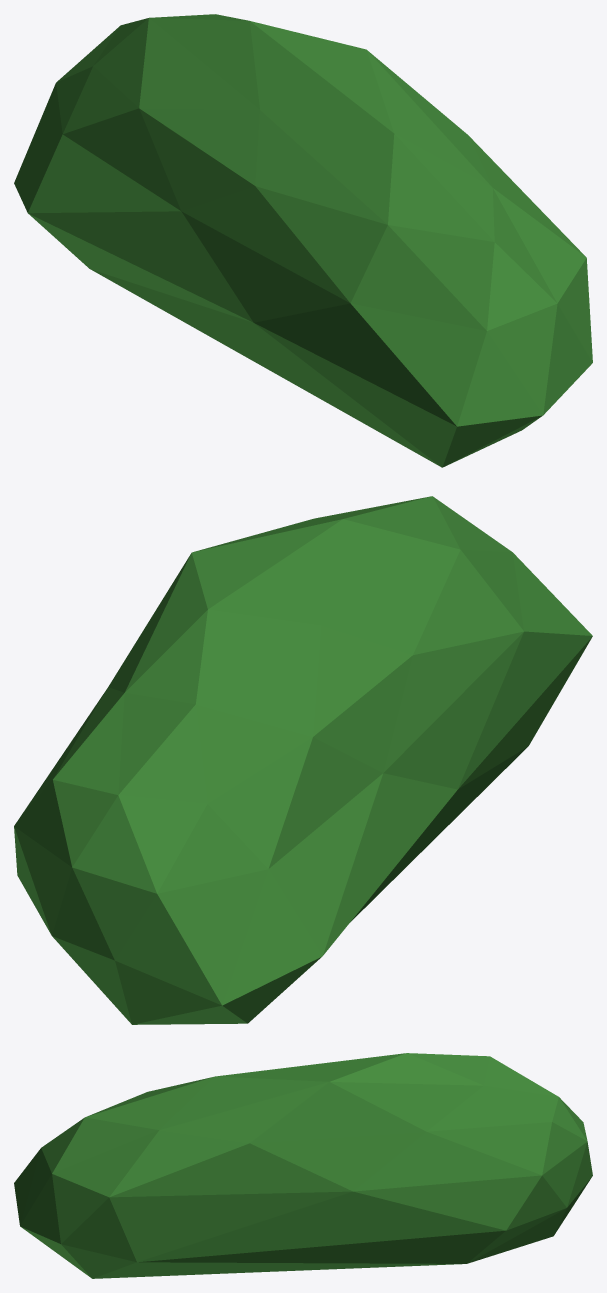
The model's file is Bush2.fbx.
3 views of the same model, one above another, from view 1: azimuth 30°, elevation 25°; view 2: azimuth 150°, elevation 25°; view 3: azimuth 270°, elevation 25° (orthographic). The views are drawn at different scales.
Visible parts, largest first — view 1: Icosphere; view 2: Icosphere; view 3: Icosphere.
Boxes of the visible parts, x1,y1,x2,y2 form: Icosphere: [14, 14, 592, 467]; Icosphere: [14, 496, 592, 1024]; Icosphere: [14, 1053, 592, 1278].
Size of the model in its own units: 177 by 162 by 400.
